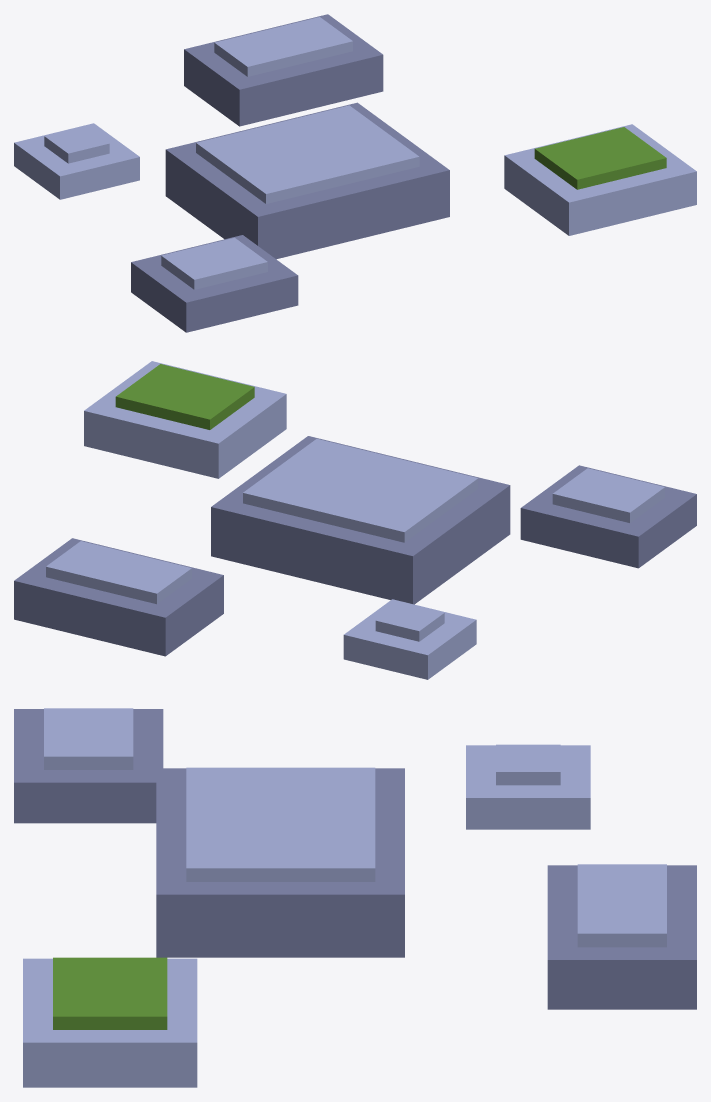
File: FlatStones.glb
3 renders of one model, top to bottom at view 1: azimuth 30°, elevation 25°; view 2: azimuth 150°, elevation 25°; view 3: azimuth 270°, elevation 25°, orthographic. The views are drawn at different scales.
Visible parts, largest first — view 1: FlatStones; view 2: FlatStones; view 3: FlatStones.
Part boxes in pixels (x1,y1,x2,y2): FlatStones: (14, 14, 696, 332); FlatStones: (14, 361, 696, 679); FlatStones: (14, 708, 696, 1087).
Size of the model in its own units: 16.08 by 1.7 by 13.73.
Materials: 1 (1 with a texture image).
